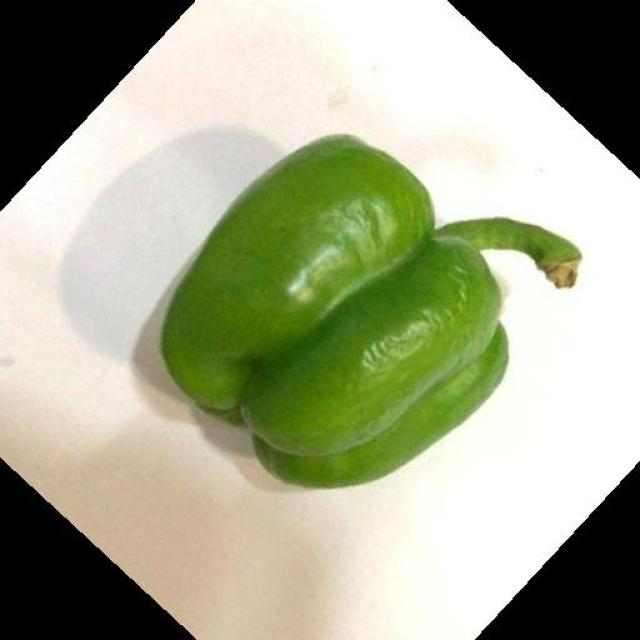Fresh_Capsicum: (162, 134, 572, 462)
